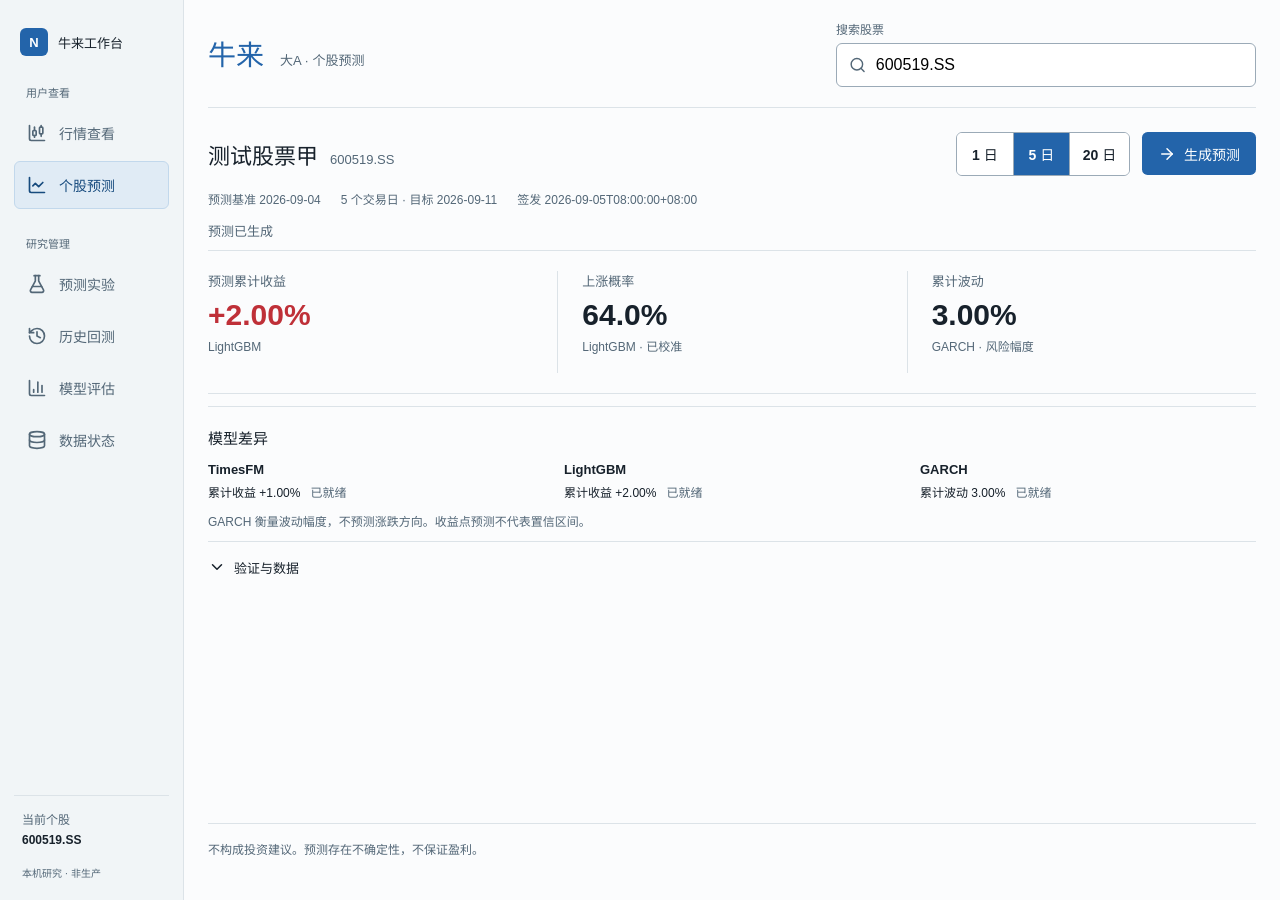
Test: single-stock prediction workspace at the HTTP boundary › aborts only the client submission when switching stocks and ignores its late response
Expected: the heading "测试股票甲" is shown, [208,138,318,170]
Click the button "生成预测": (1199, 154) [1142,132,1256,175]
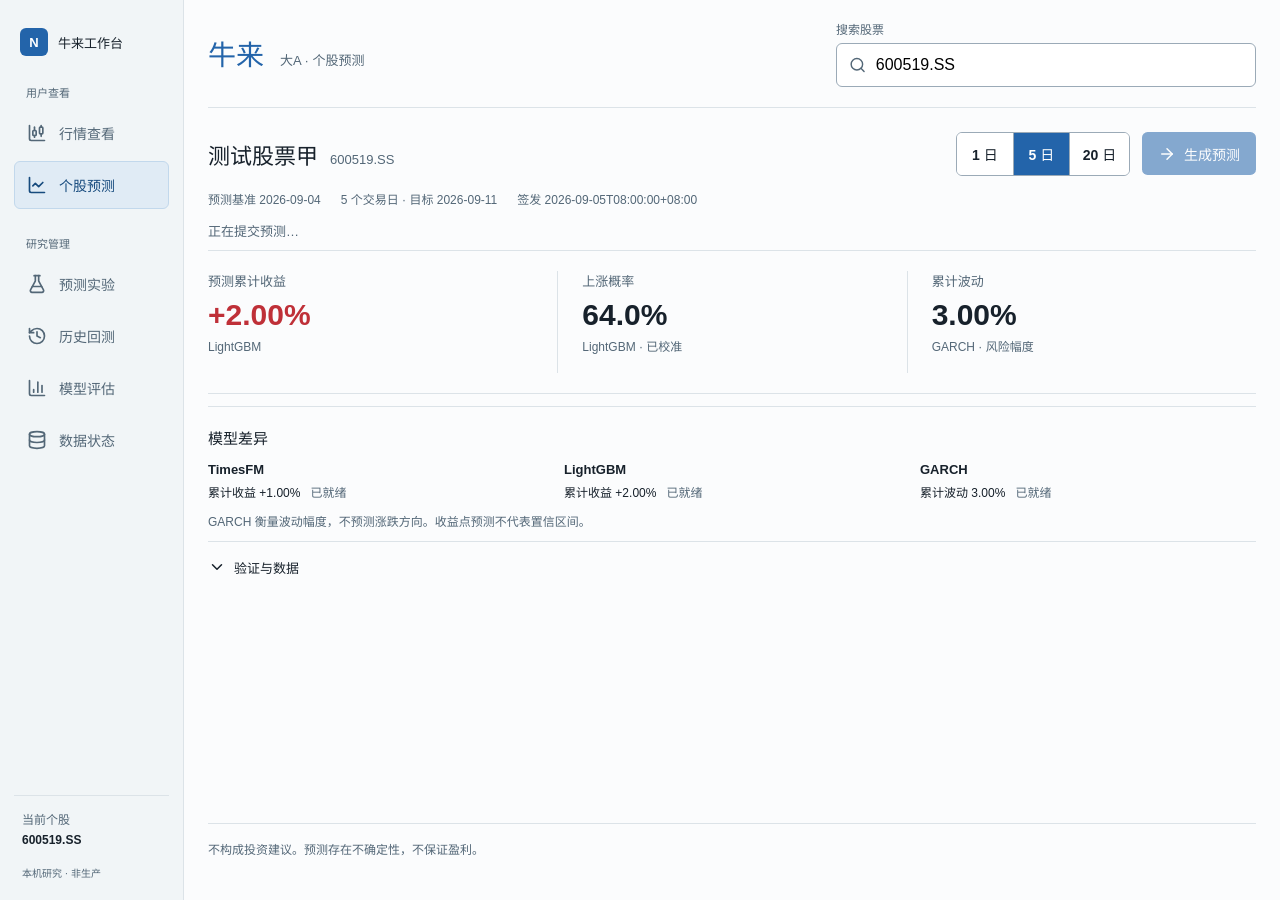
Now the text "正在提交预测…" is shown, box [208,224,299,239]
Replace the text in the dropdown labelled "搜索股票" with "测试股票乙": (1061, 65) [866,44,1255,86]
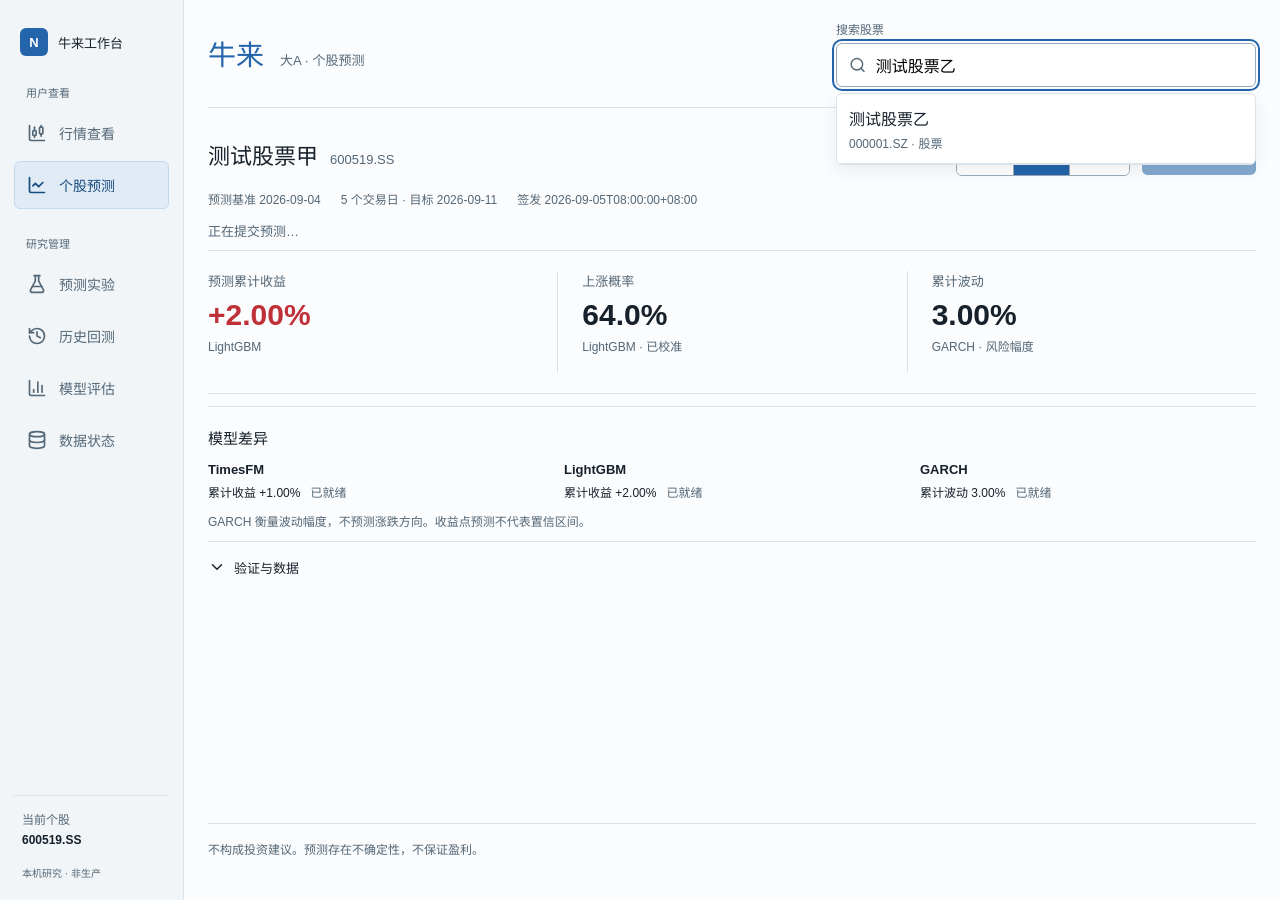
Now the option "测试股票乙 000001.SZ · 股票" is shown, box [837,94,1255,164]
Press Arrowdown Enter
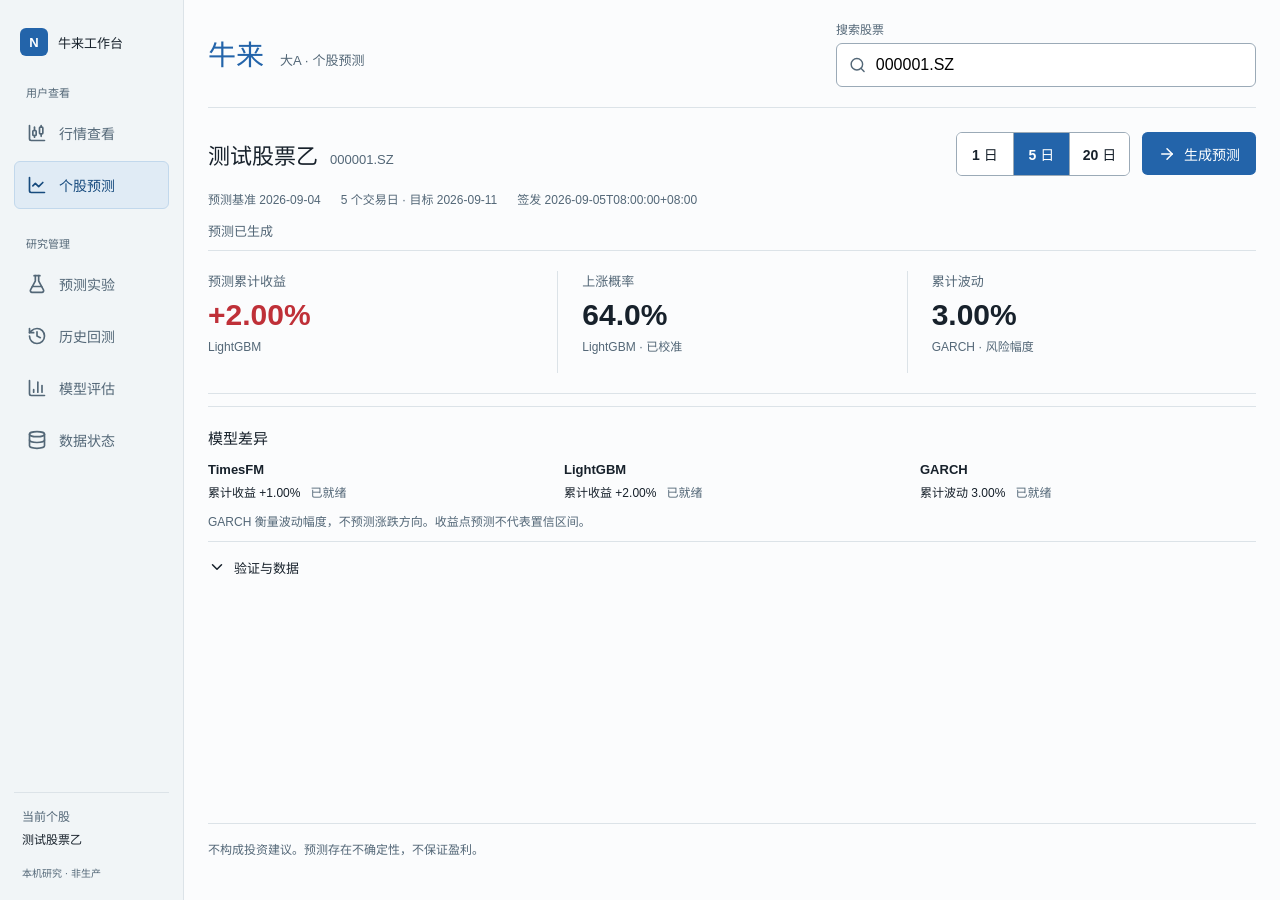
Now the heading "测试股票乙" is shown, box [208,138,318,170]
